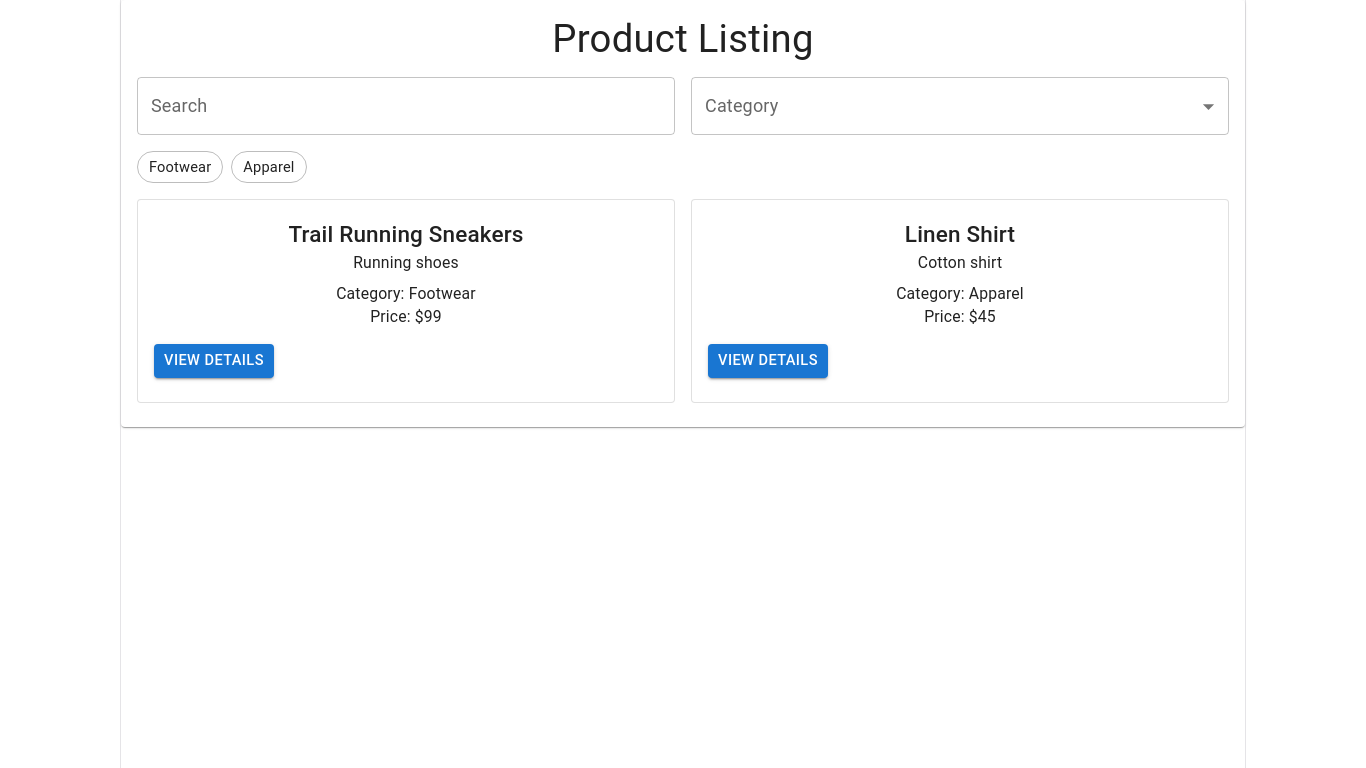
Scenario: ProductListPage › supports search and category filtering flow
The width and height of the screenshot is (1366, 768).
Expected: the heading "Trail Running Sneakers" is shown, [288,222,524,248]
Type "linen" into the field labelled "Search" at (406, 106), box [137,77,675,136]
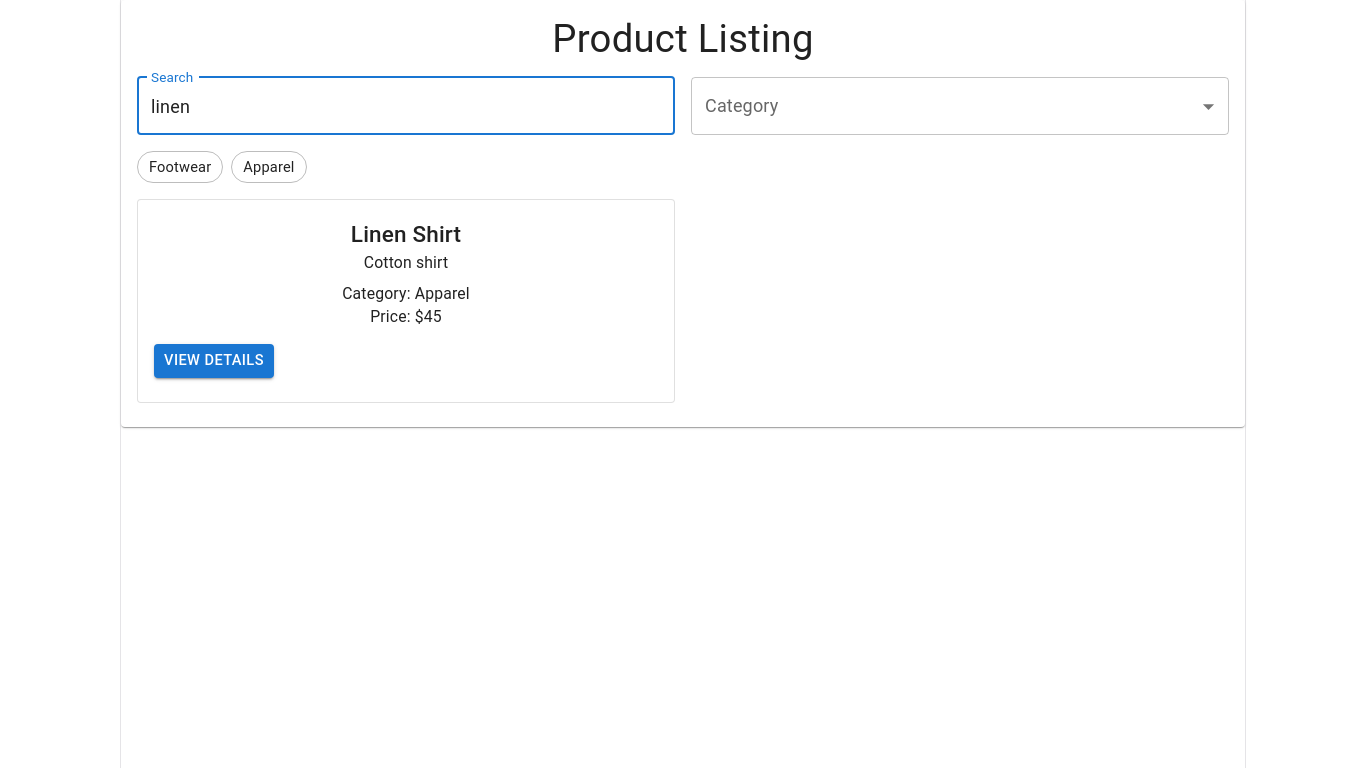
Expected: the heading "Linen Shirt" is shown, [351,222,461,248]
Expected: the heading "Trail Running Sneakers" is gone
Clear the field labelled "Search" at (406, 106), box [137,77,675,136]
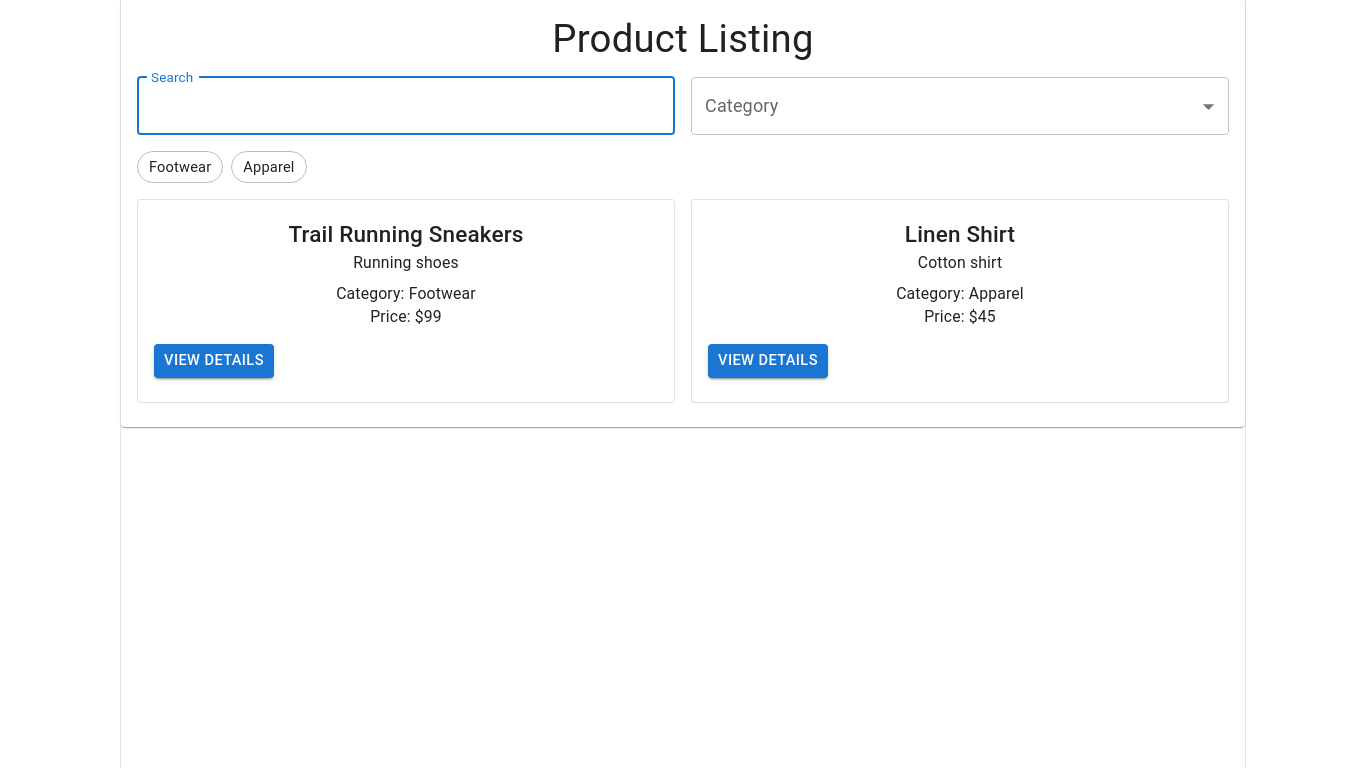
Click the dropdown named "category" at (960, 106), box [691,77,1229,136]
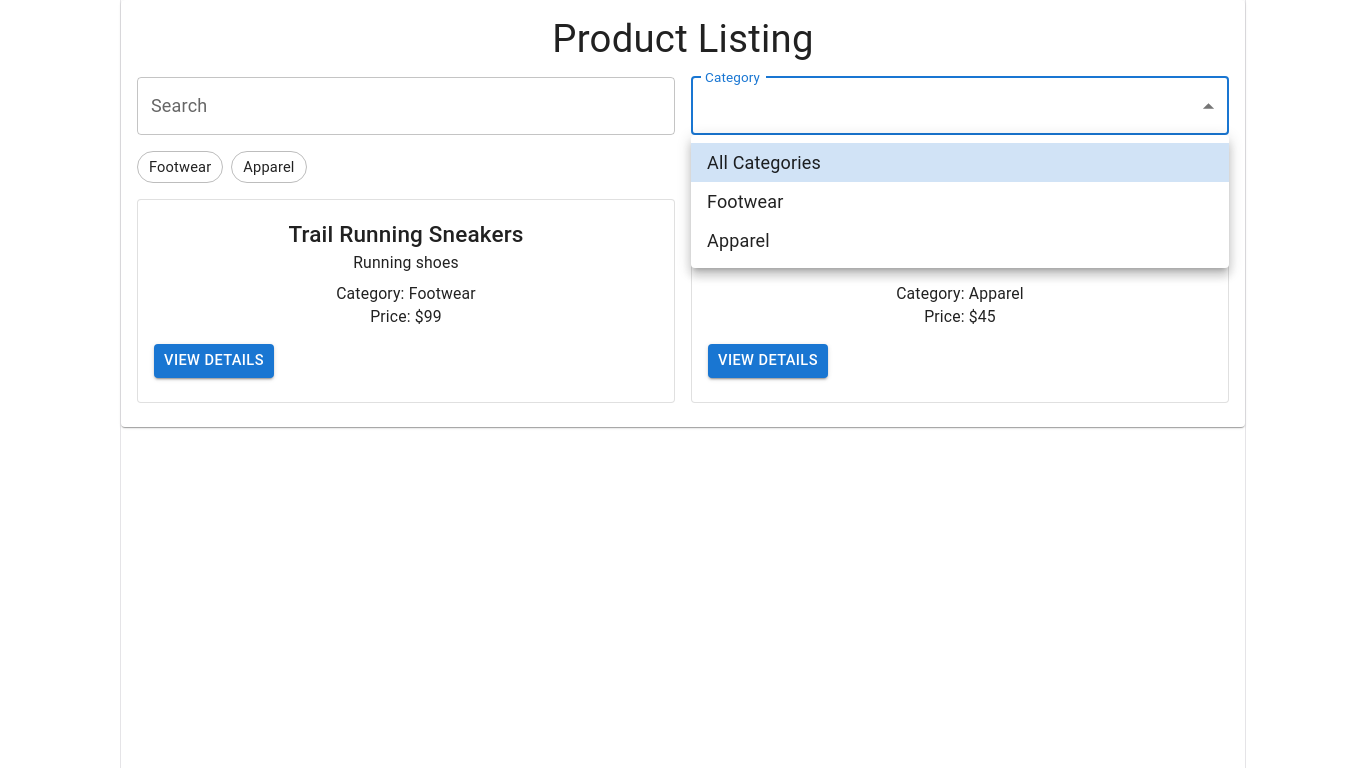
Click the option "Footwear" at (745, 202), box [707,191,784,212]
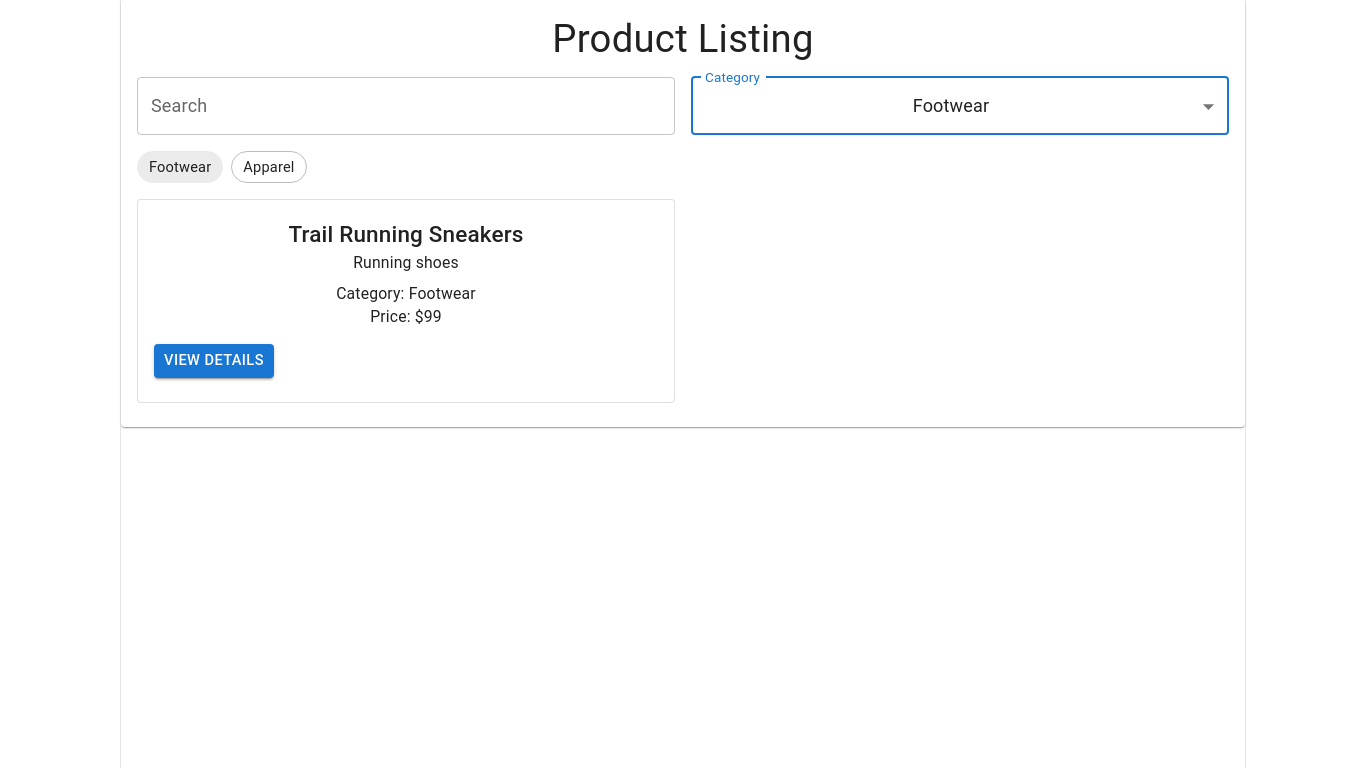
Expected: the heading "Trail Running Sneakers" is shown, [288,222,524,248]
Click the dropdown named "category" at (951, 106), box [913,95,989,116]
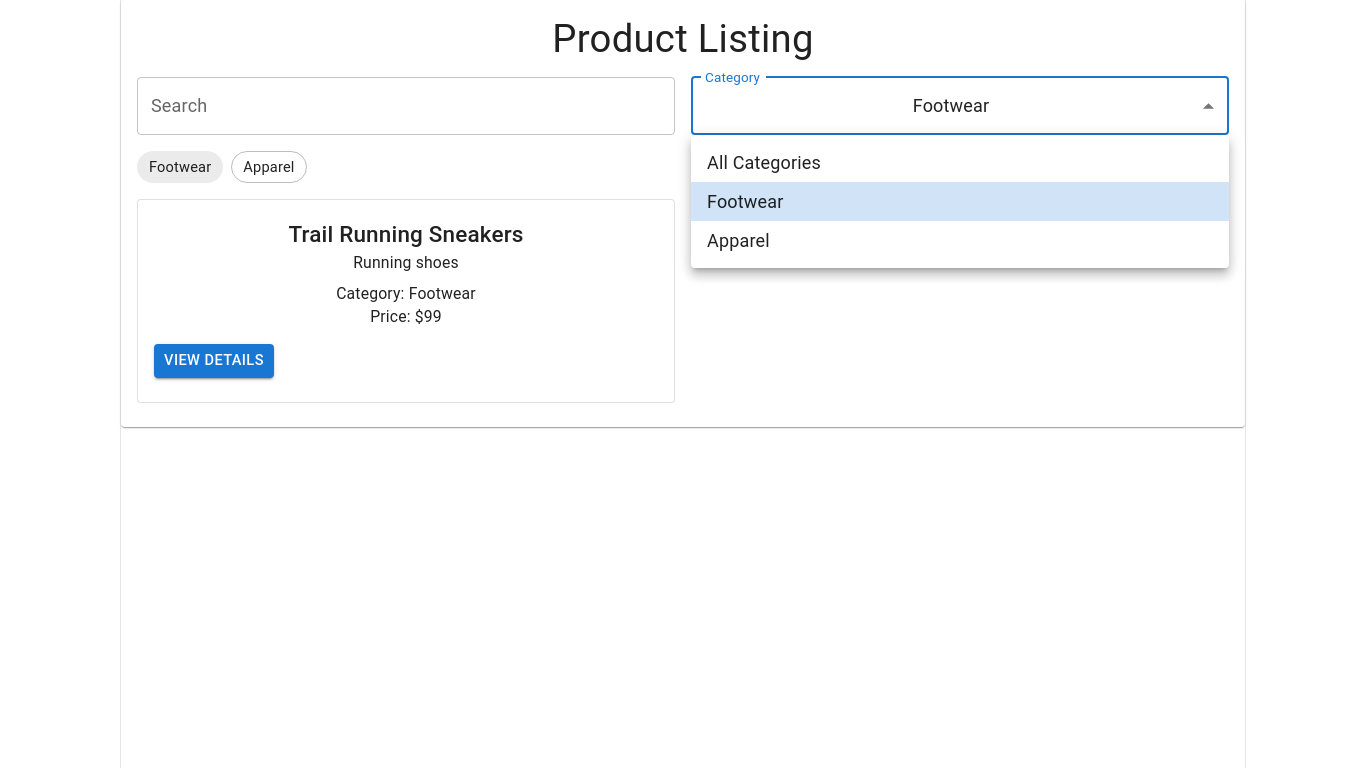
Expected: the option "Footwear" is shown, [691,182,1229,221]
Expected: the option "Apparel" is shown, [707,230,770,251]
Click the option "All Categories" at (764, 162), box [707,152,821,173]
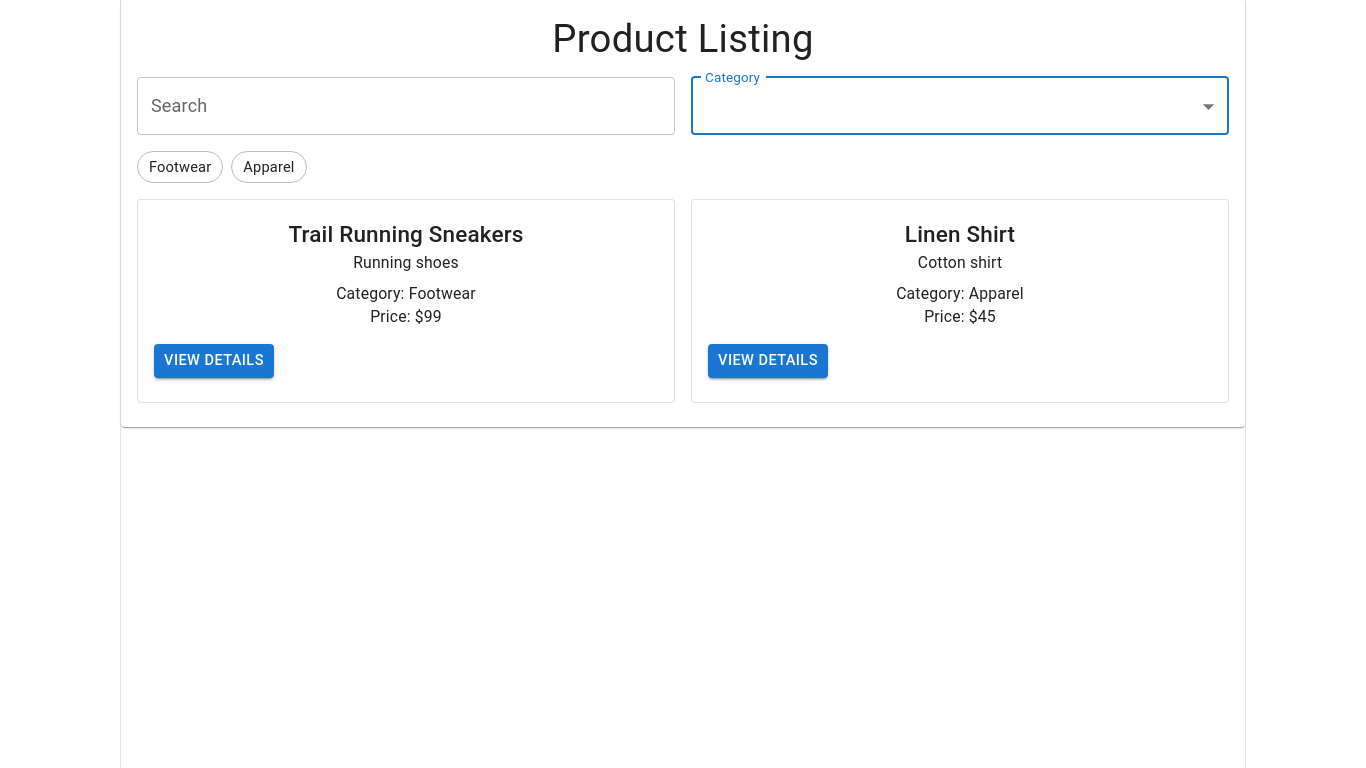
Expected: the heading "Trail Running Sneakers" is shown, [288,222,524,248]
Expected: the heading "Linen Shirt" is shown, [905,222,1015,248]
